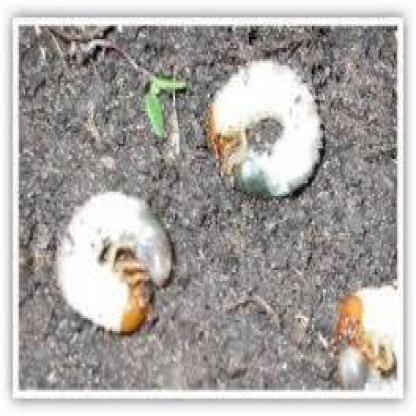root grubs: (52, 187, 172, 338), (204, 61, 324, 201)
